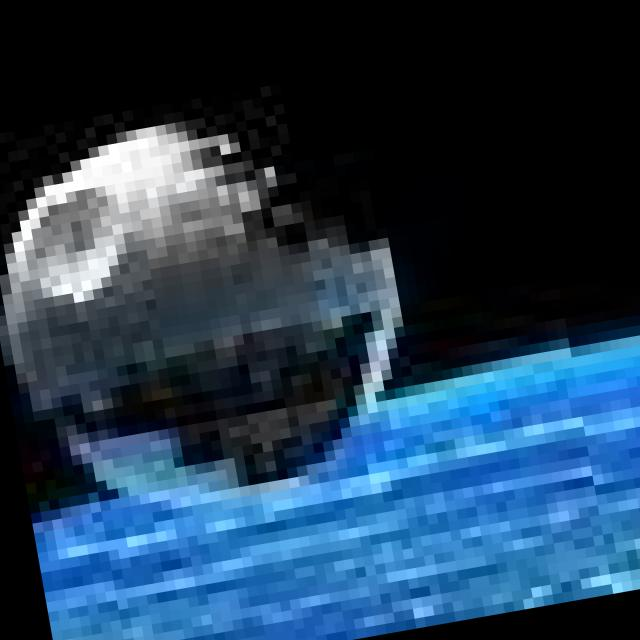Death Star: (0, 66, 446, 531)
